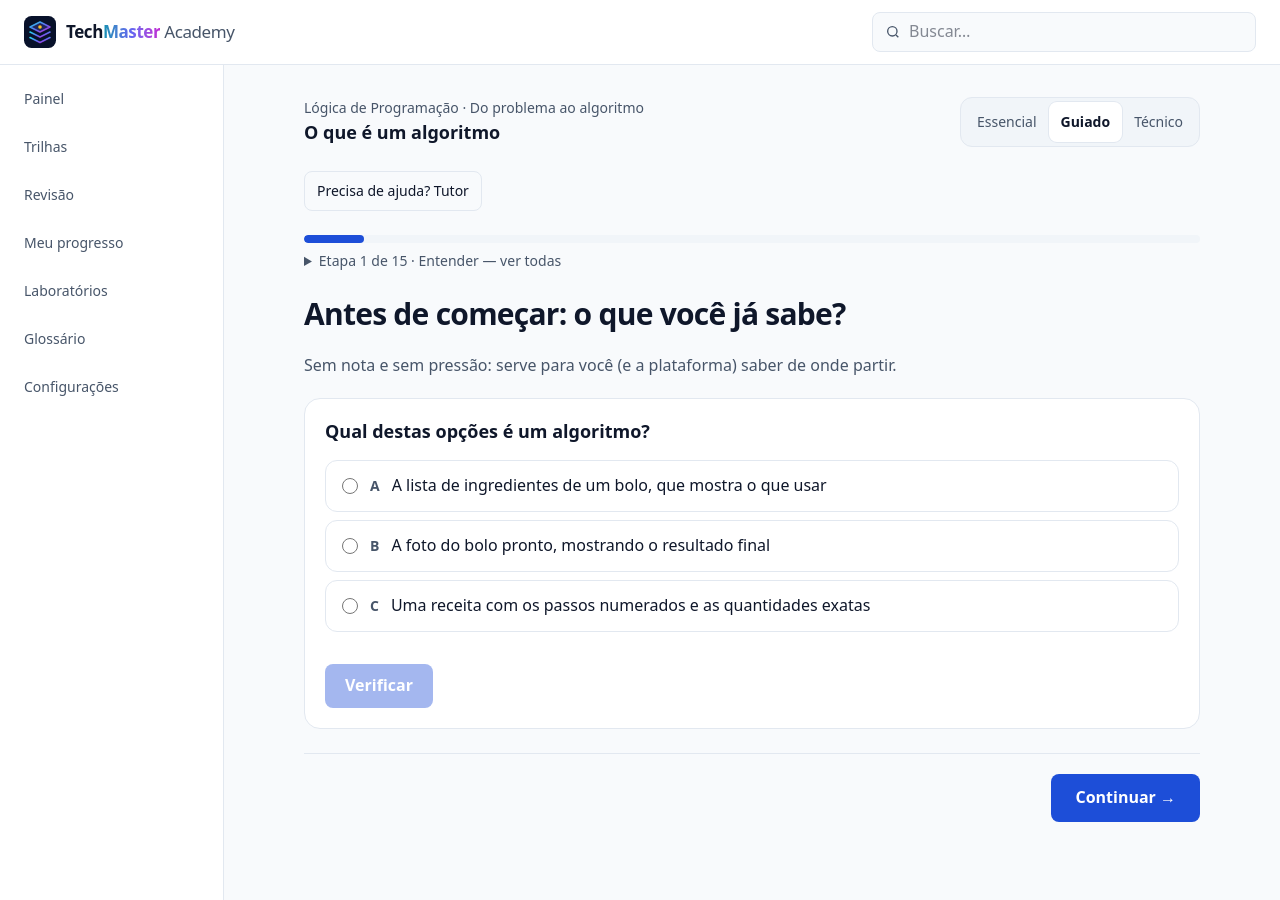
Test case: player de aula › trocar o modo muda a explicação sem perder a posição
Click the button "Continuar →" at (1126, 798), box [1052, 774, 1200, 822]
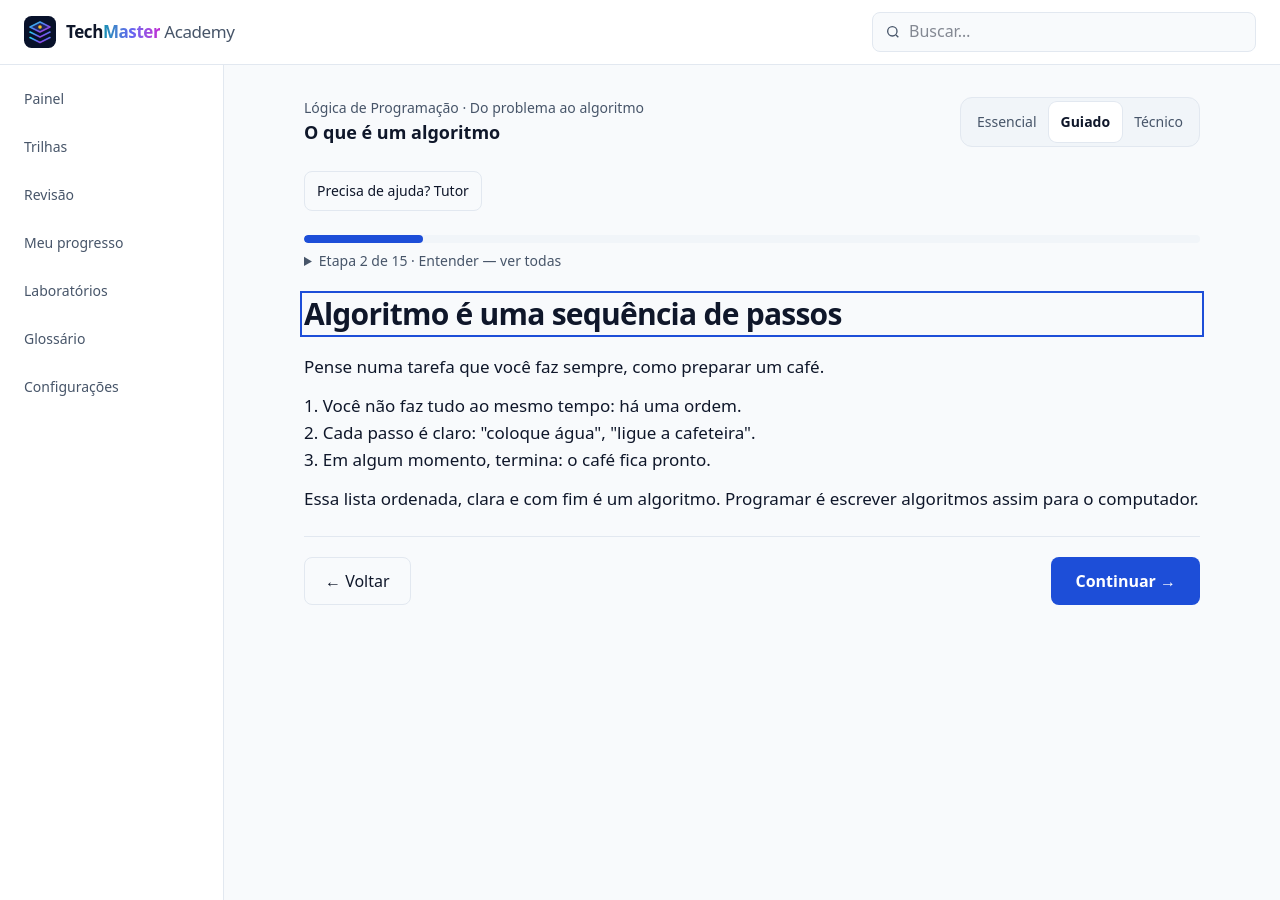
Now the heading "Algoritmo é uma sequência de passos" is shown, box [304, 293, 842, 334]
Click the button "Essencial" at (1007, 122), box [965, 102, 1048, 142]
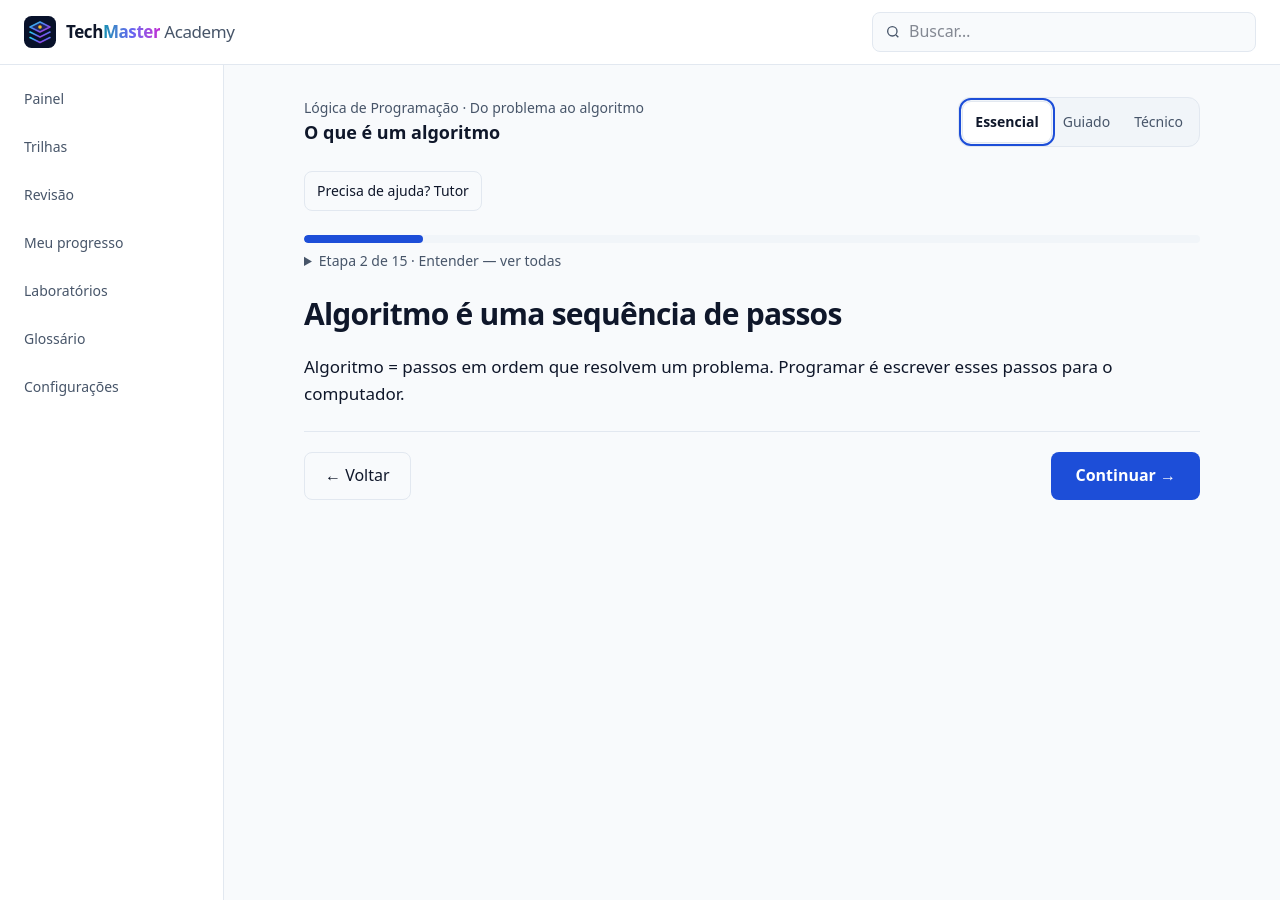
Now the text "Algoritmo = passos em ordem" is shown, box [304, 354, 1113, 405]
Click the button "Técnico" at (1159, 122), box [1122, 102, 1195, 142]
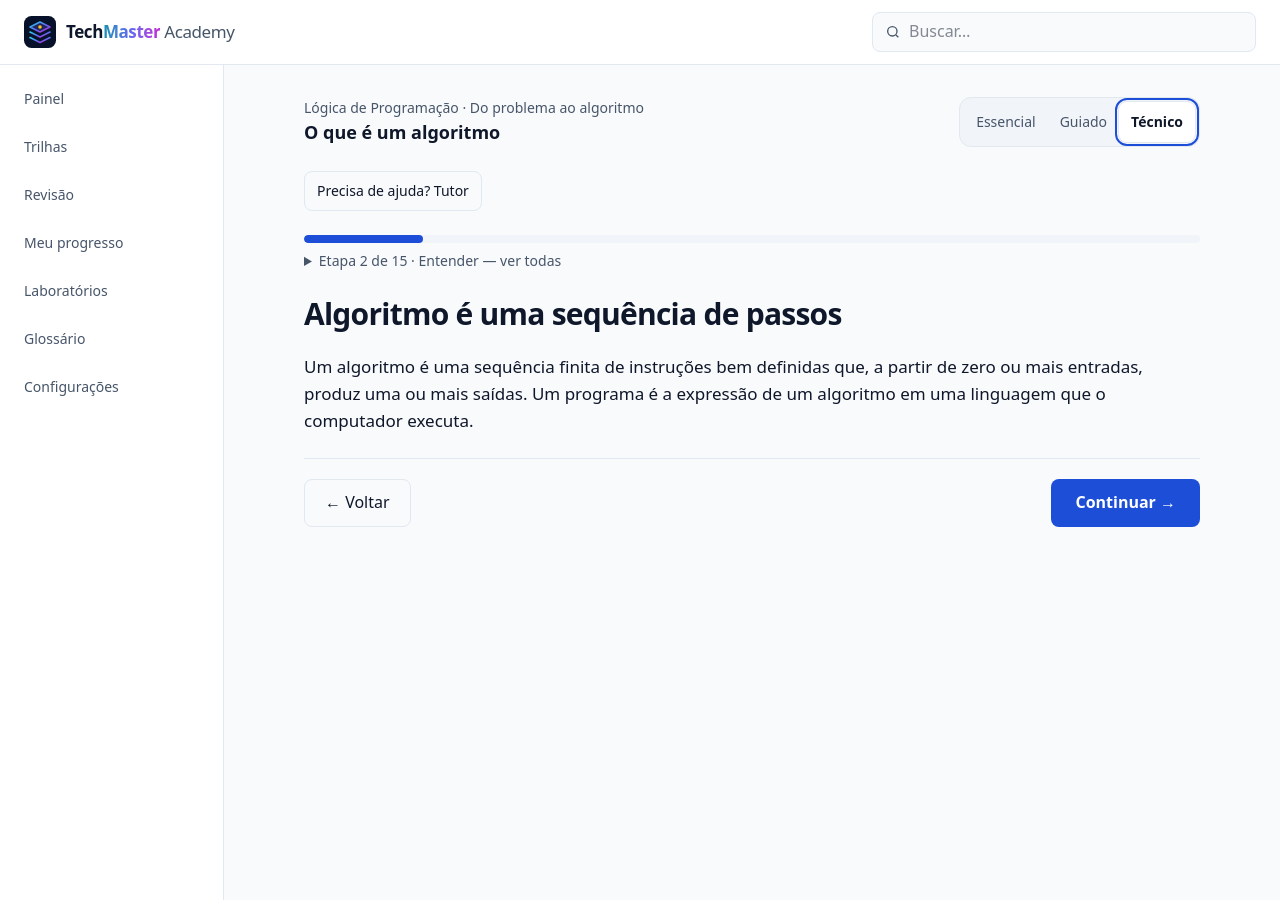
Now the text "sequência finita de instruções bem definidas" is shown, box [304, 354, 1143, 432]
